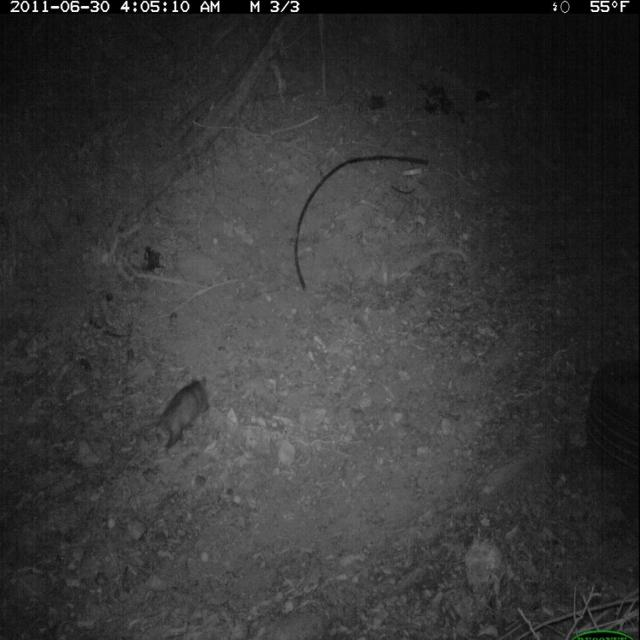opossum: (145, 370, 217, 459)
